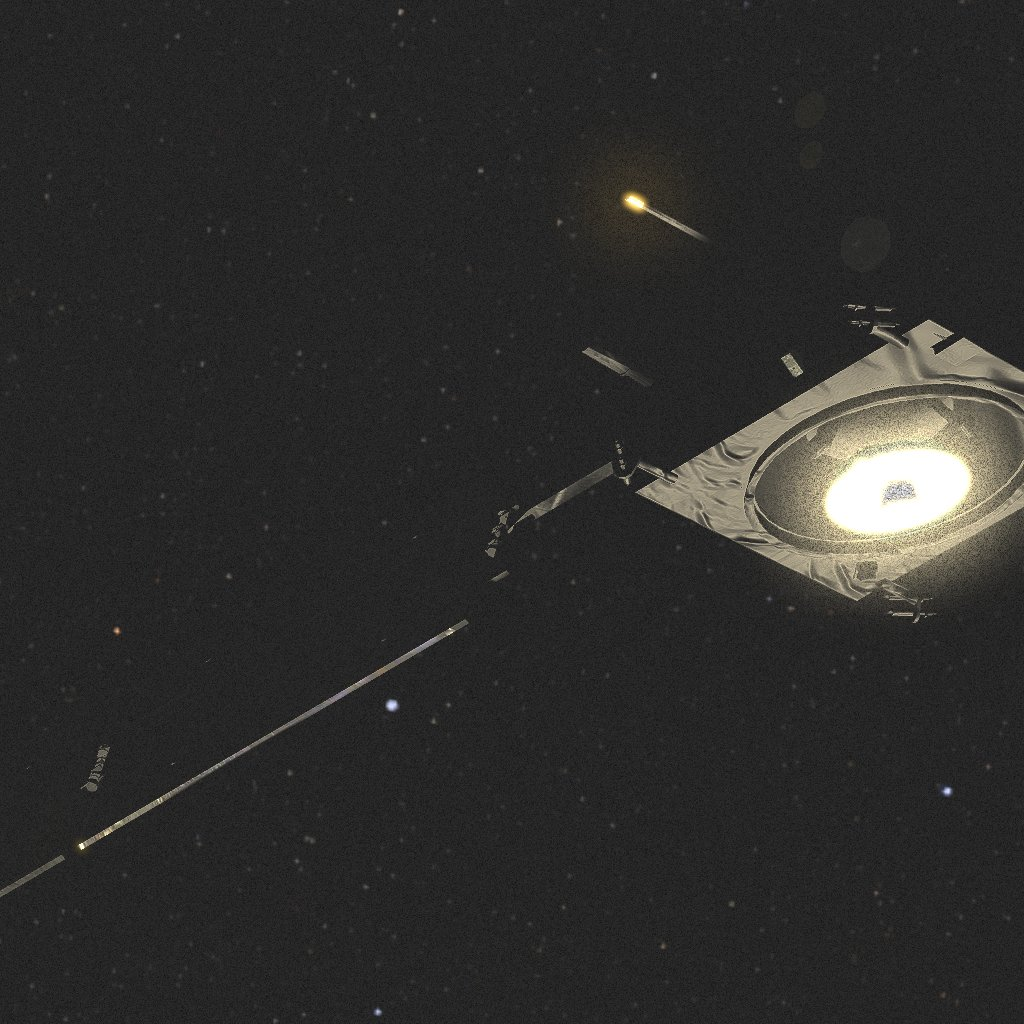smart_1: (0, 66, 1024, 897)
